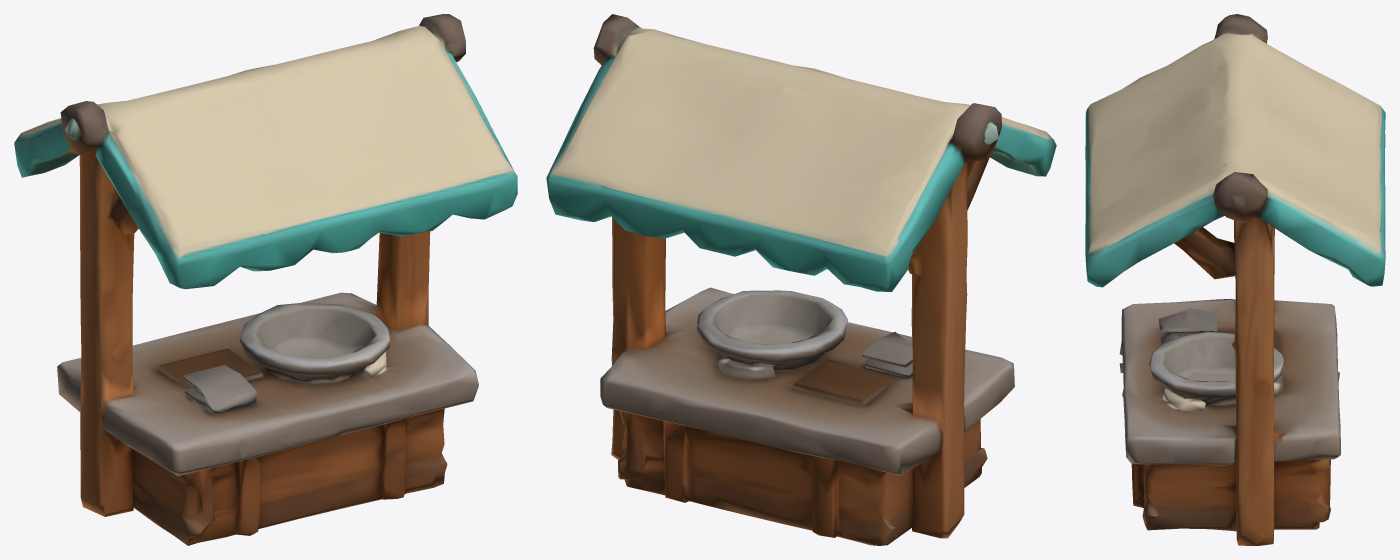
File: textures.glb
3 renders of one model, left to right at view 1: azimuth 30°, elevation 25°; view 2: azimuth 150°, elevation 25°; view 3: azimuth 270°, elevation 25°, orthographic. The views are drawn at different scales.
Parts seen in each view (by area): view 1: tripo_node_ad70d31f-7308-47f1-8093-b100840a4de3; view 2: tripo_node_ad70d31f-7308-47f1-8093-b100840a4de3; view 3: tripo_node_ad70d31f-7308-47f1-8093-b100840a4de3.
Boxes of the visible parts, <box> form: tripo_node_ad70d31f-7308-47f1-8093-b100840a4de3: <box>14,14,517,545</box>; tripo_node_ad70d31f-7308-47f1-8093-b100840a4de3: <box>546,14,1056,545</box>; tripo_node_ad70d31f-7308-47f1-8093-b100840a4de3: <box>1085,14,1385,545</box>.
Size of the model in its own units: 0.9773 by 1 by 0.7184.
1 material, 1 textured.
